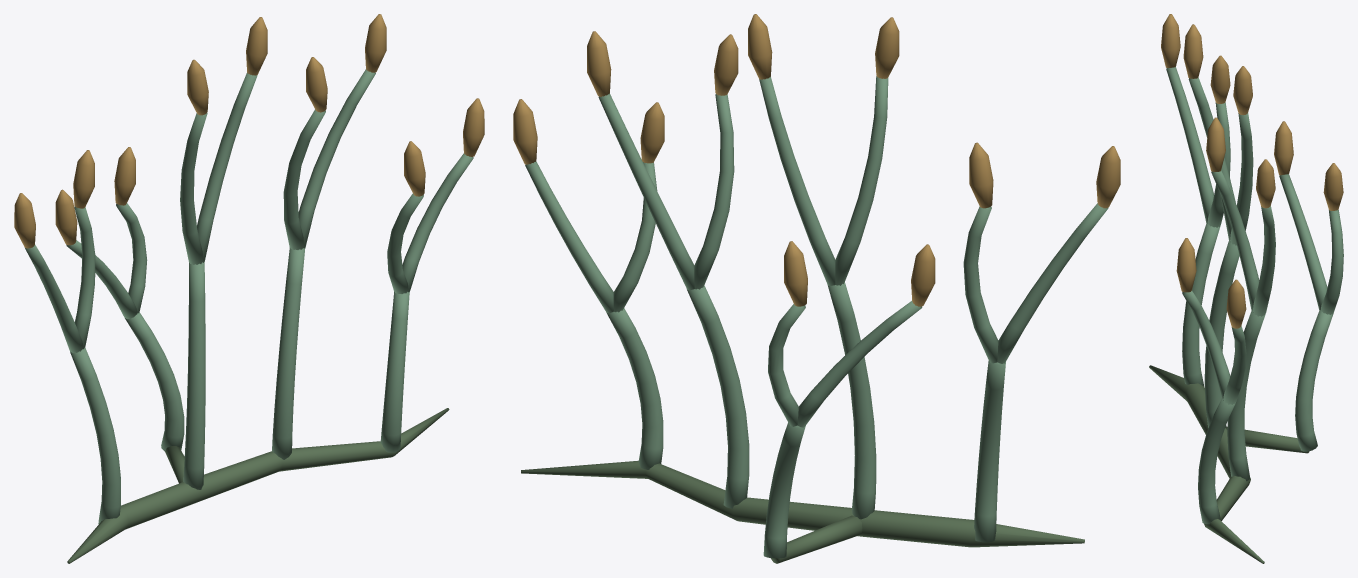
The model's file is aglaophyton.glb.
3 renders of one model, left to right at view 1: azimuth 30°, elevation 25°; view 2: azimuth 150°, elevation 25°; view 3: azimuth 270°, elevation 25°, orthographic. The views are drawn at different scales.
Visible parts, largest first — view 1: connected-naked-dichotomous-axes, terminal-spindle-sporangia; view 2: connected-naked-dichotomous-axes, terminal-spindle-sporangia; view 3: connected-naked-dichotomous-axes, terminal-spindle-sporangia.
Boxes of the visible parts, <box> form: connected-naked-dichotomous-axes: <box>25,69,473,563</box>; terminal-spindle-sporangia: <box>14,14,484,248</box>; connected-naked-dichotomous-axes: <box>521,76,1108,563</box>; terminal-spindle-sporangia: <box>513,14,1120,306</box>; connected-naked-dichotomous-axes: <box>1149,67,1343,563</box>; terminal-spindle-sporangia: <box>1161,14,1343,328</box>.
Size of the model in its own units: 0.2339 by 0.2024 by 0.0861.
